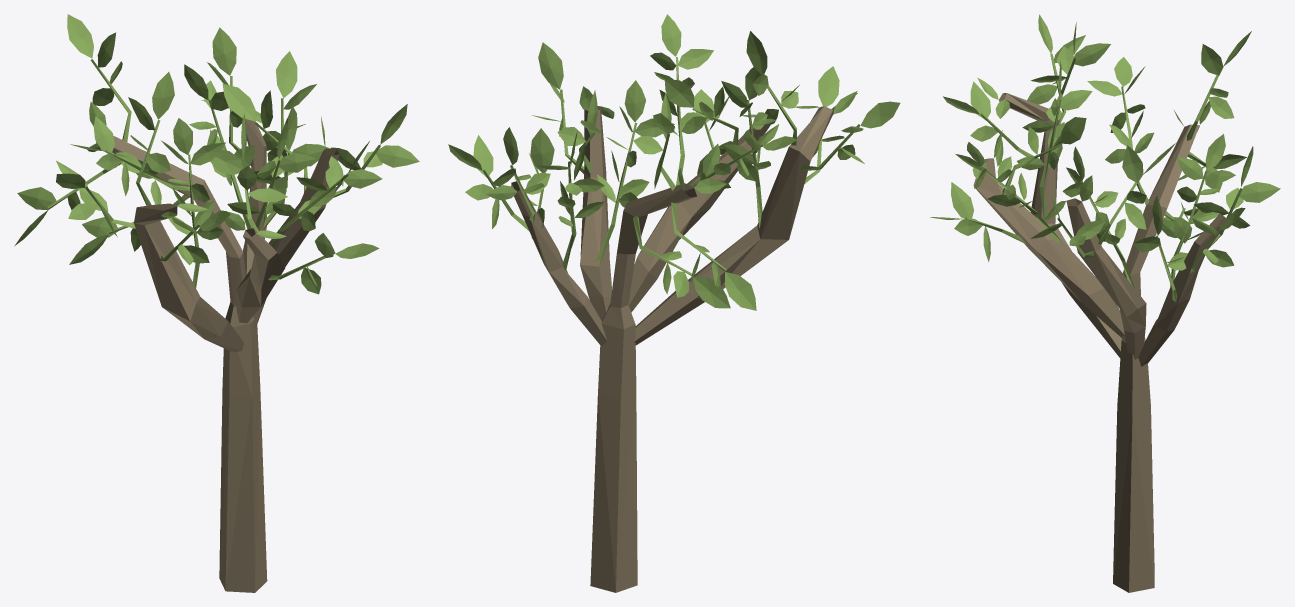
File: Apple_3_3.fbx
3 renders of one model, left to right at view 1: azimuth 30°, elevation 25°; view 2: azimuth 150°, elevation 25°; view 3: azimuth 270°, elevation 25°, orthographic. The views are drawn at different scales.
Visible parts, largest first — view 1: Apple_3_3; view 2: Apple_3_3; view 3: Apple_3_3.
Boxes of the visible parts, x1,y1,x2,y2 form: Apple_3_3: (14, 14, 419, 592); Apple_3_3: (448, 14, 900, 592); Apple_3_3: (930, 14, 1280, 592).
Bounding box in the file's own units: 149 × 224 × 139.
